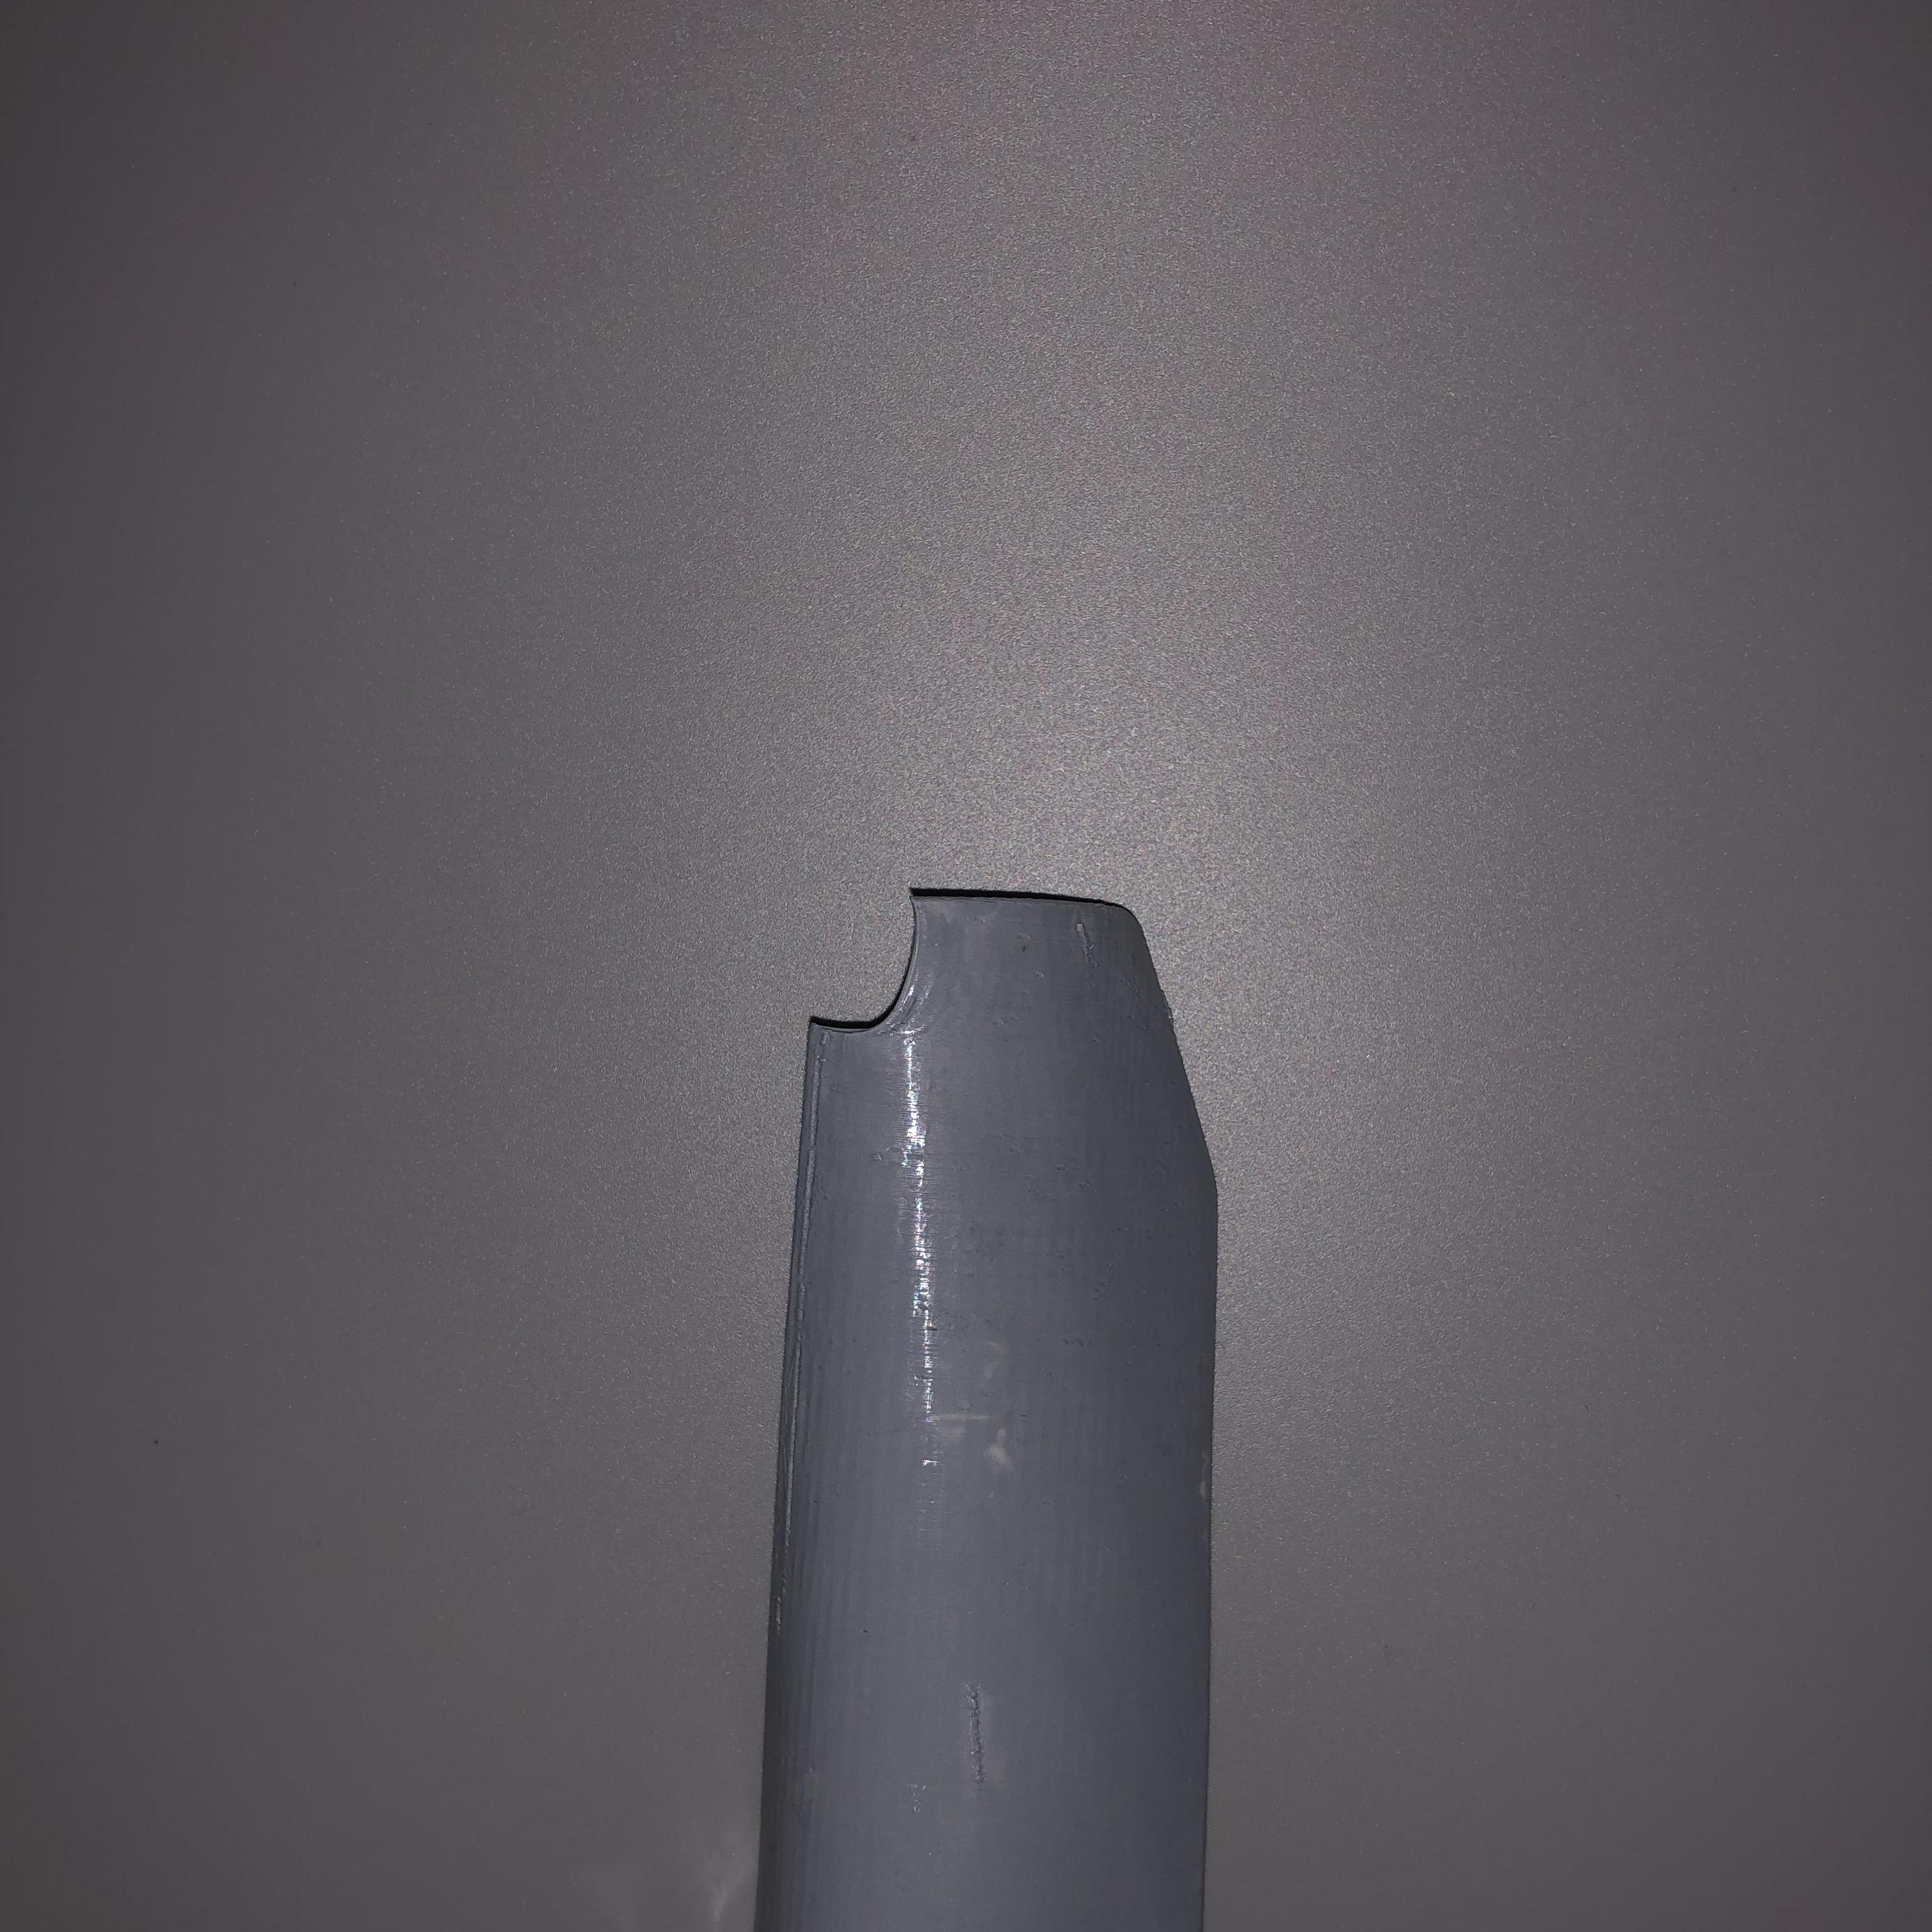fracture: (791, 881, 959, 1053)
